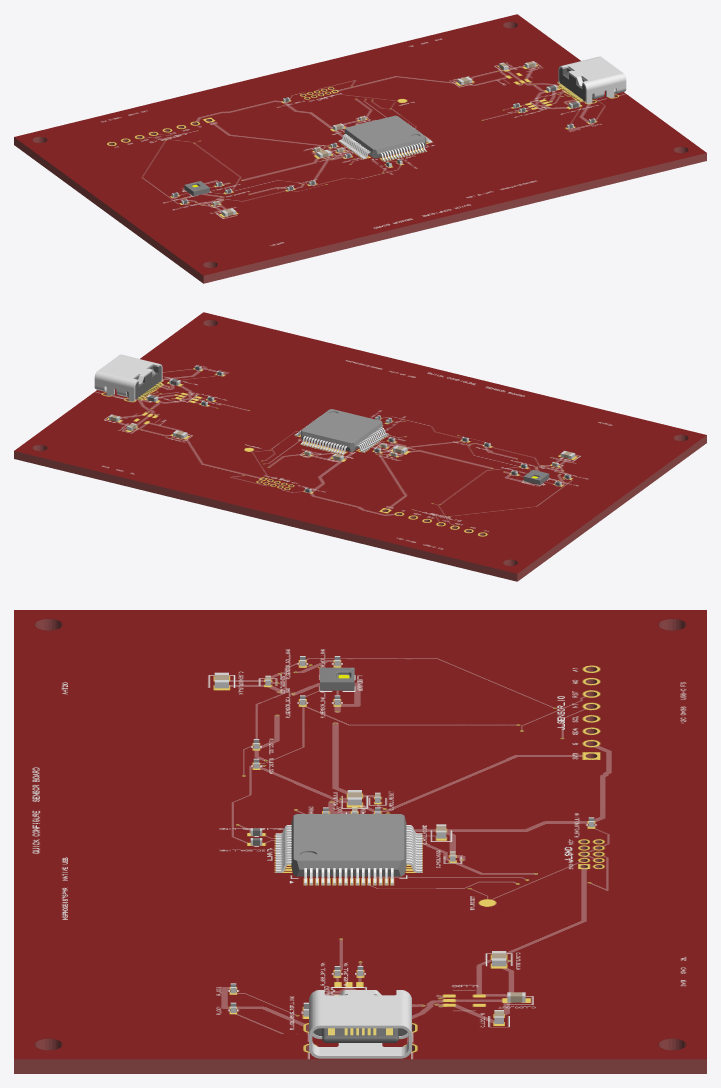
The picture shows the model from 3 angles, top to bottom: view 1: azimuth 30°, elevation 25°; view 2: azimuth 150°, elevation 25°; view 3: azimuth 270°, elevation 25°; orthographic projection. The views are drawn at different scales.
Visible parts, largest first — view 1: Box0, U_MAIN, J_USB; view 2: Box0, U_MAIN, J_USB; view 3: Box0, U_MAIN, J_USB, U_SENSOR.
Boxes of the visible parts, x1=… form: Box0: x1=14, y1=14, x2=706, y2=283; U_MAIN: x1=338, y1=115, x2=432, y2=161; J_USB: x1=558, y1=56, x2=626, y2=103; Box0: x1=14, y1=312, x2=706, y2=581; U_MAIN: x1=294, y1=409, x2=388, y2=454; J_USB: x1=94, y1=354, x2=162, y2=401; Box0: x1=14, y1=610, x2=706, y2=1073; U_MAIN: x1=275, y1=814, x2=422, y2=885; J_USB: x1=309, y1=990, x2=411, y2=1058; U_SENSOR: x1=320, y1=667, x2=354, y2=690.
Bounding box in the file's own units: 92.04 × 4.65 × 60.
Materials: 16 (2 with a texture image).
